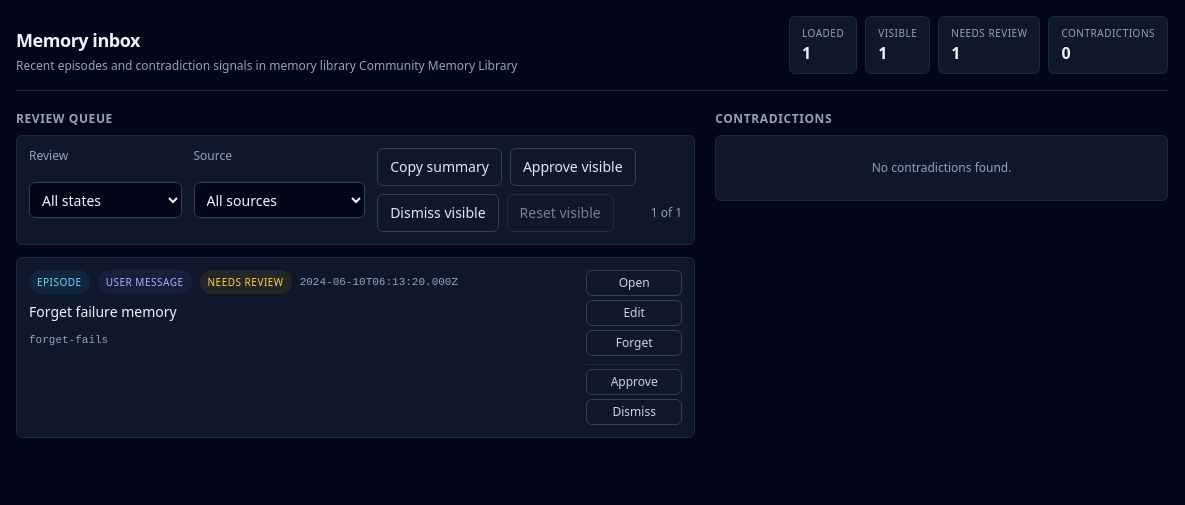
Scenario: InboxView › shows an alert and keeps the episode selected when forget fails
The width and height of the screenshot is (1185, 505).
Click the button with aria-label "forget forget failure memory" at (634, 343), box [586, 330, 682, 356]
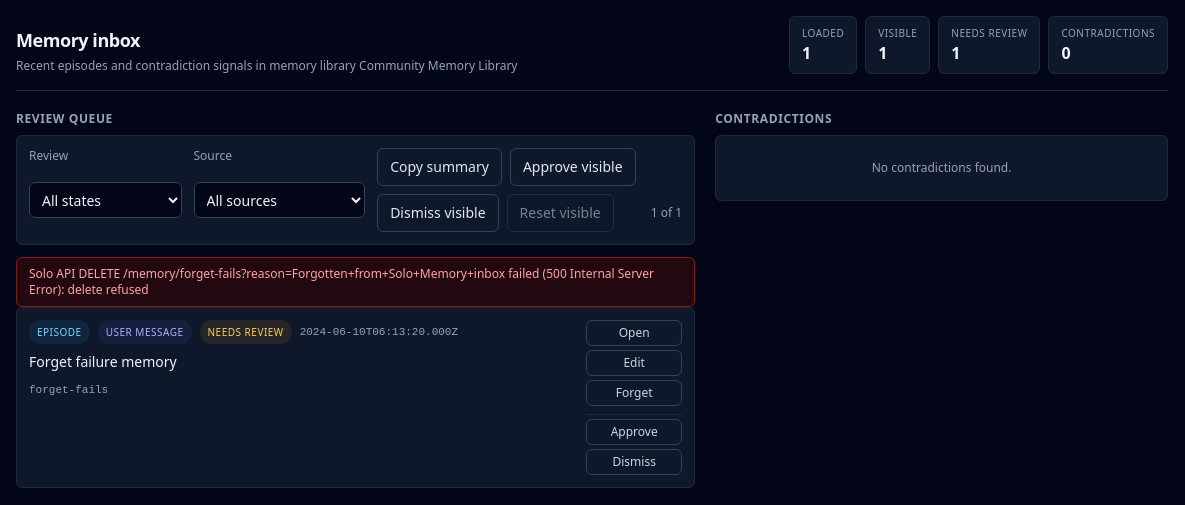
expect the button with aria-label "forget forget failure memory" is enabled: met, box [586, 380, 682, 406]
expect the message shows "delete refused": met, box [29, 265, 654, 298]
